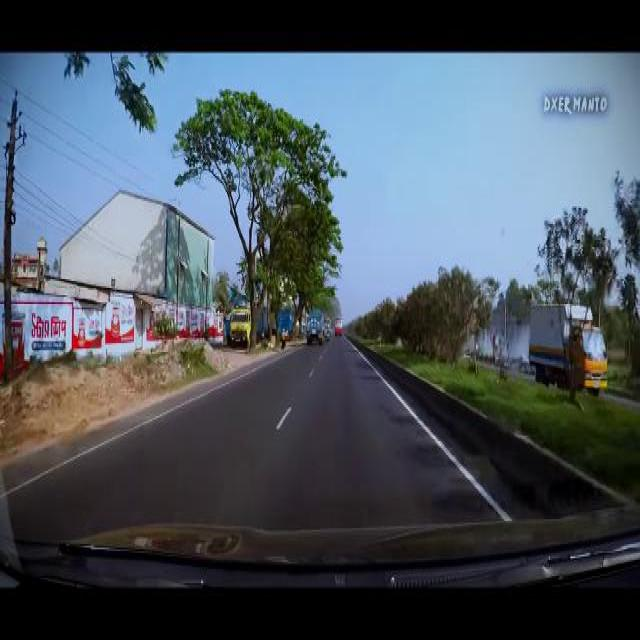11: (528, 302, 606, 388)
18: (228, 304, 250, 343), (304, 308, 324, 342)
Truck: (333, 316, 341, 334)
